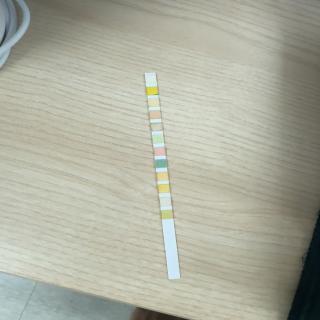mark: (161, 210, 173, 220), (149, 110, 161, 119), (152, 134, 164, 143), (154, 147, 165, 156), (156, 159, 167, 168), (151, 123, 163, 131), (148, 98, 159, 106), (157, 172, 168, 180), (147, 87, 157, 95), (160, 198, 170, 206), (145, 75, 156, 82), (158, 185, 168, 192)
